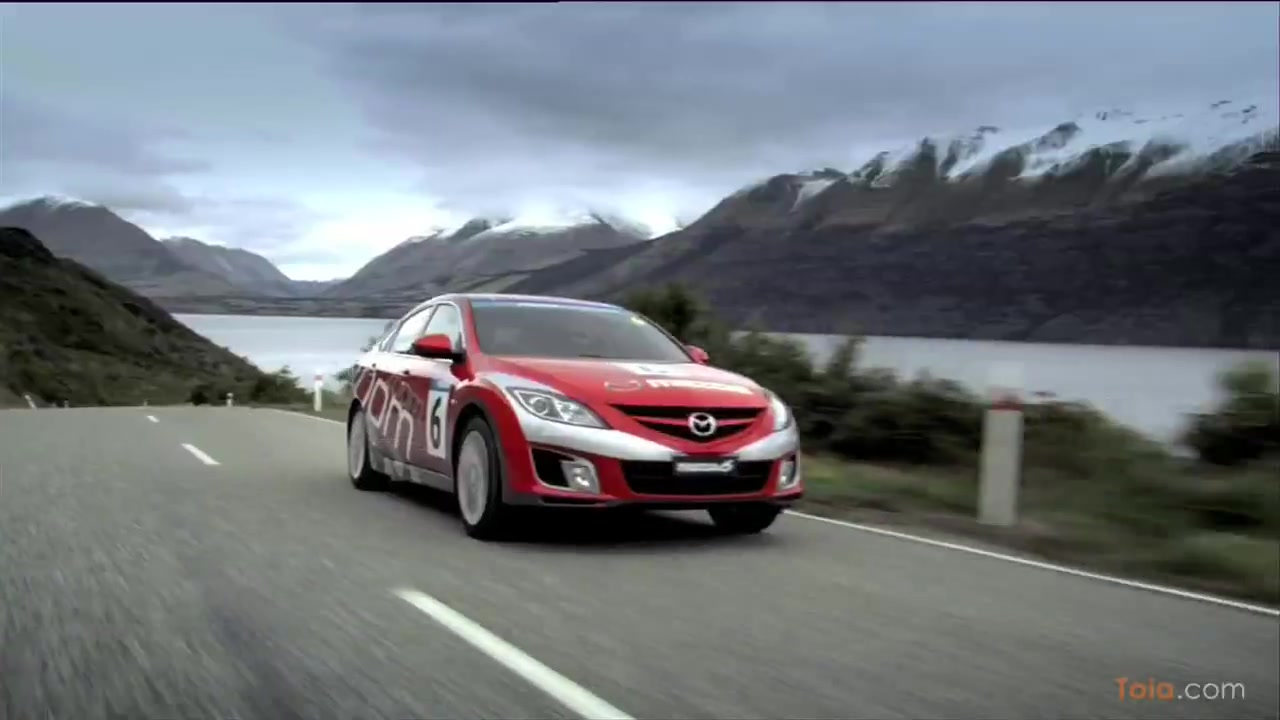car: (343, 293, 805, 540)
